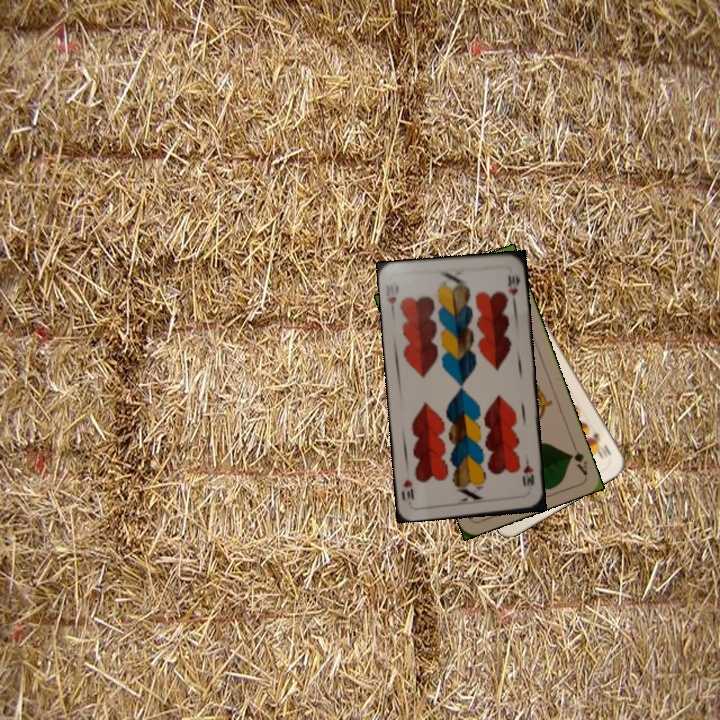E10: (587, 429, 614, 460)
GA: (565, 439, 590, 478)
H10: (383, 279, 401, 317), (518, 455, 537, 490)
